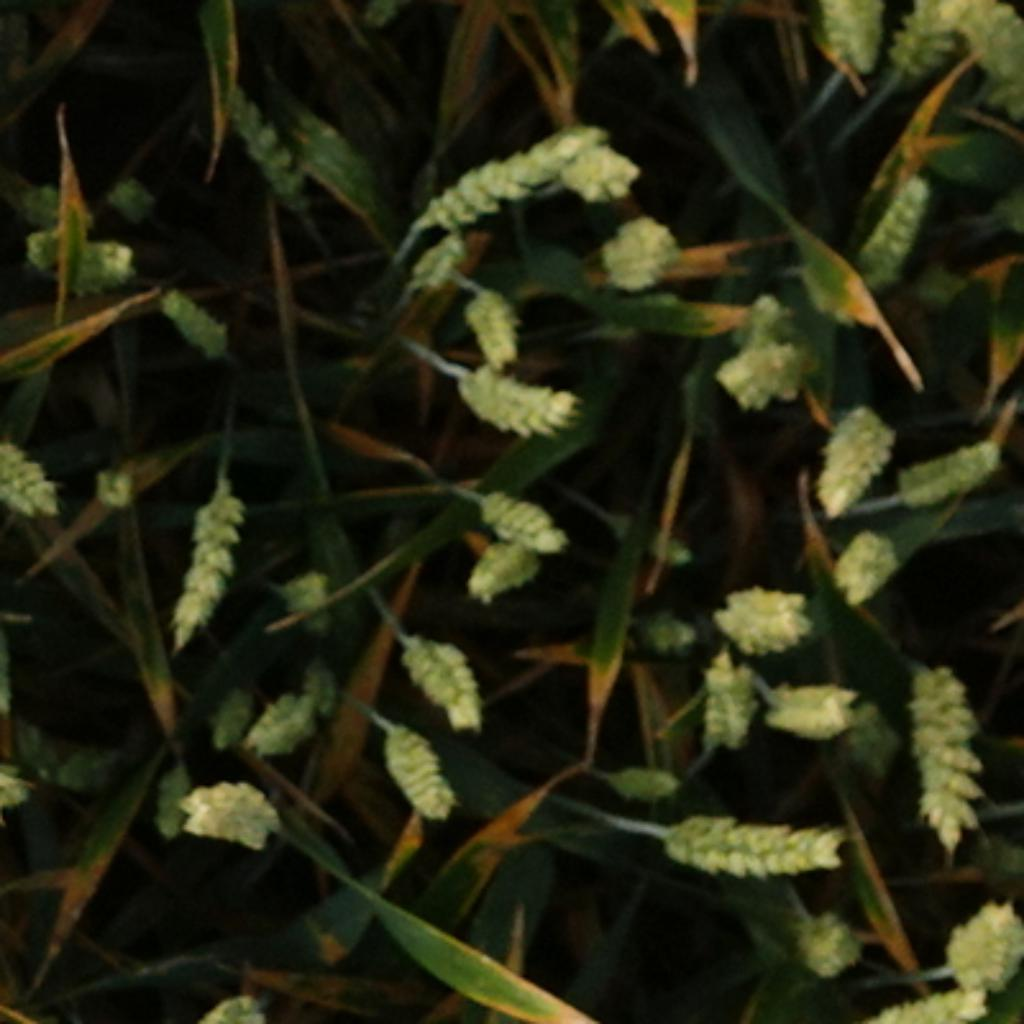0-0: (409, 94, 609, 230), (204, 61, 332, 209), (898, 650, 993, 837), (698, 279, 832, 409), (656, 810, 867, 883), (166, 468, 253, 627), (851, 173, 946, 294), (941, 2, 1024, 134), (440, 348, 573, 430), (678, 634, 768, 755), (386, 616, 486, 716), (931, 885, 1024, 990), (808, 391, 898, 499), (15, 227, 148, 299), (893, 417, 1006, 501), (706, 568, 816, 652), (174, 760, 286, 842), (371, 711, 455, 811), (468, 473, 570, 555), (895, 0, 986, 88), (750, 678, 870, 742), (606, 494, 696, 576), (593, 199, 680, 281), (778, 896, 865, 975), (143, 276, 232, 353), (460, 271, 527, 373), (837, 529, 917, 612), (565, 128, 645, 209), (43, 724, 117, 811), (450, 535, 545, 599), (243, 686, 325, 757), (401, 227, 476, 299), (0, 422, 58, 512), (12, 166, 87, 235), (847, 691, 901, 785), (803, 0, 890, 58), (276, 568, 340, 645), (199, 972, 273, 1024), (212, 673, 256, 760), (642, 606, 701, 668), (104, 166, 158, 227), (92, 460, 140, 524), (296, 660, 348, 714), (358, 0, 427, 40)
